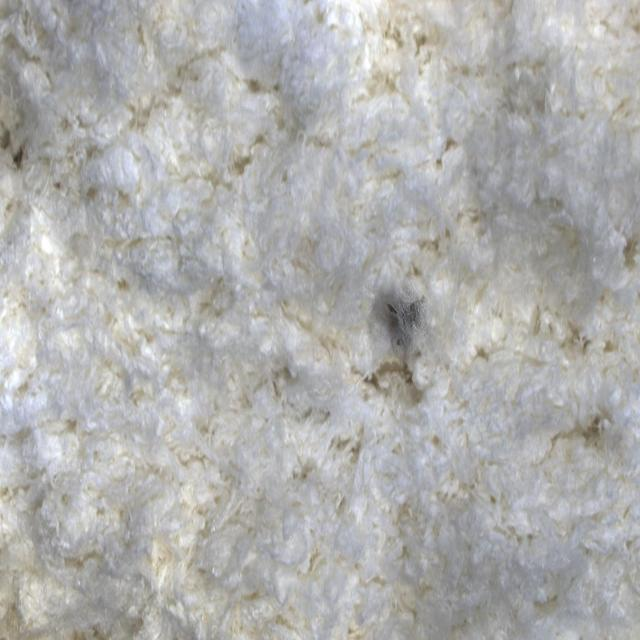dust: (333, 250, 454, 372)
